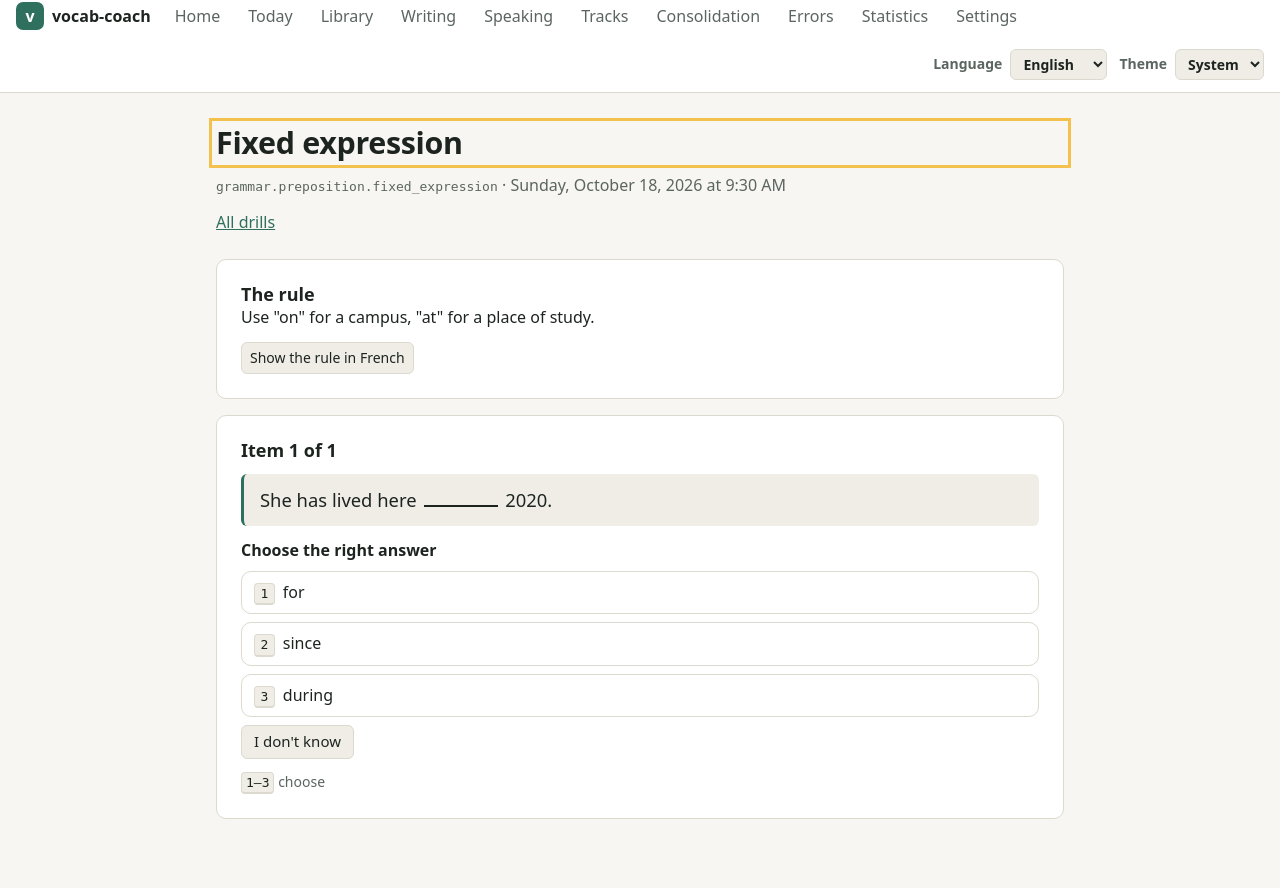
Scenario: Drill player: a whole drill › sends choice_index null for "I don't know" on a choice
Click the button "I don't know" at [298, 742], box 241,725 -> 354,759
(page scrolled)
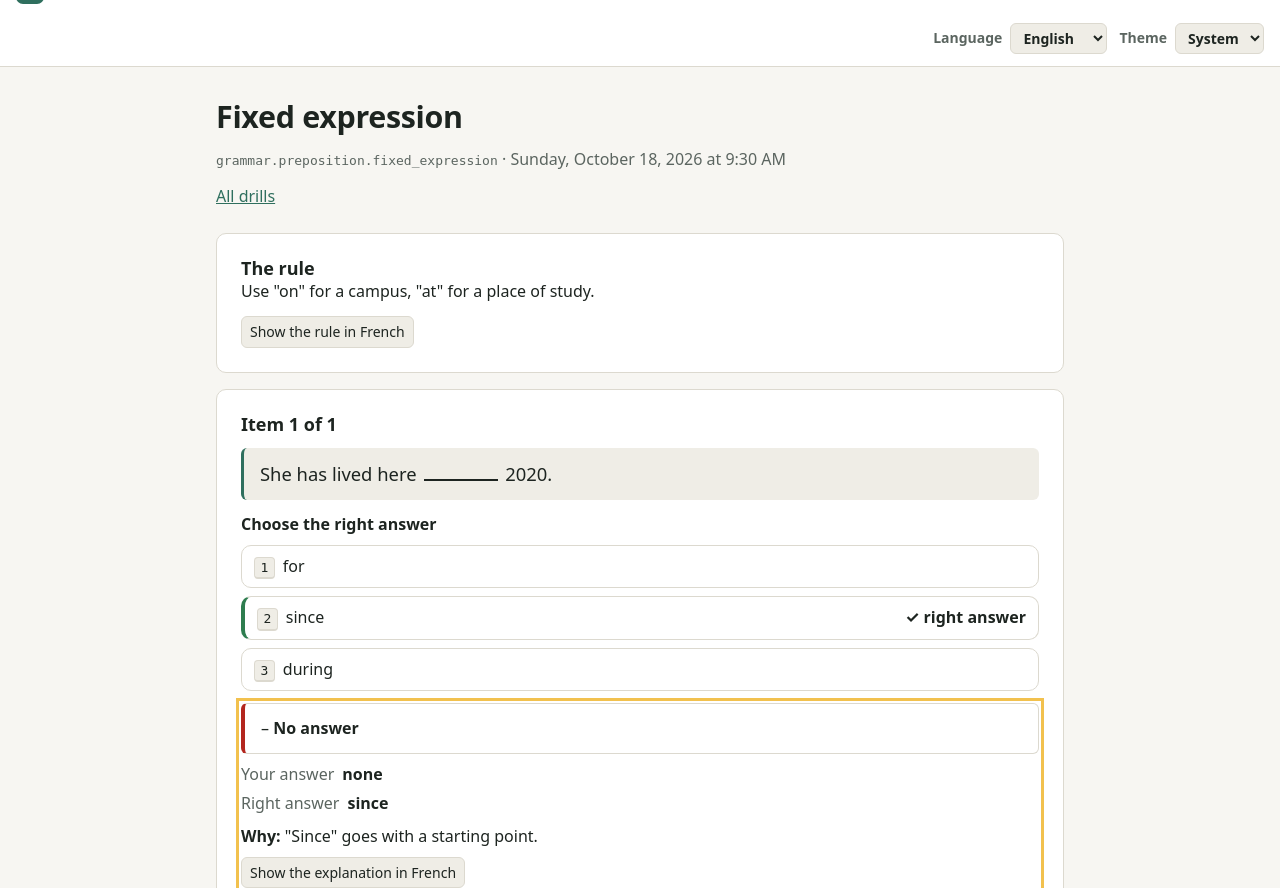
Expected: the element named "Result" shows "No answer", 273,717 -> 359,739
